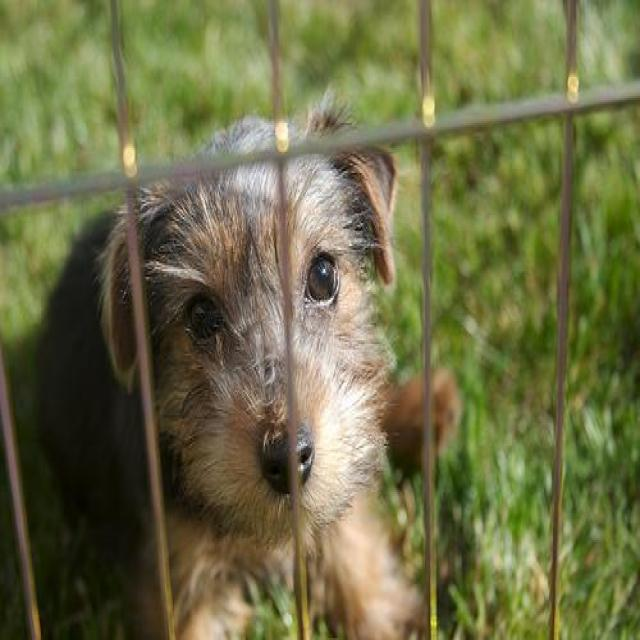dogs: (57, 110, 440, 600)
